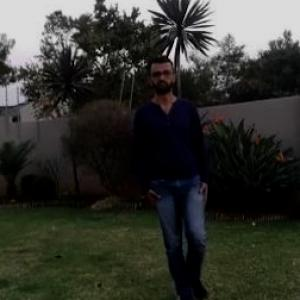follow: (149, 73, 211, 282)
